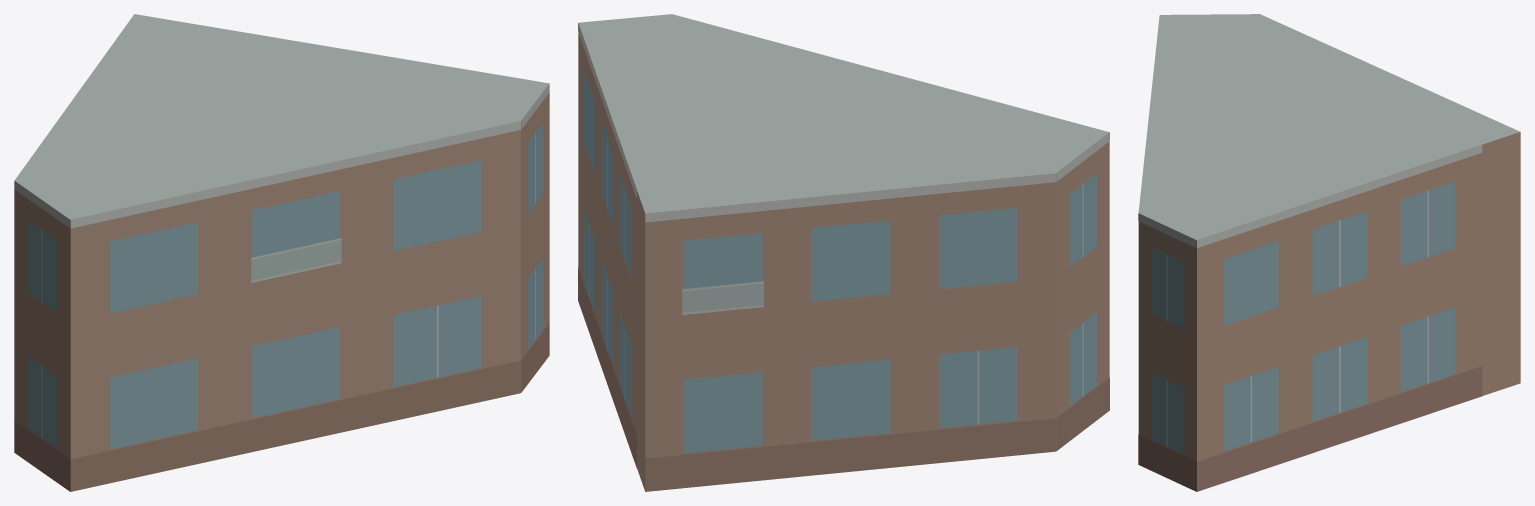
File: survey-upis-32985328.glb
The picture shows the model from 3 angles, left to right: view 1: azimuth 30°, elevation 25°; view 2: azimuth 150°, elevation 25°; view 3: azimuth 270°, elevation 25°; orthographic projection. The views are drawn at different scales.
Parts seen in each view (by area): view 1: survey-upis-32985328.tmp; view 2: survey-upis-32985328.tmp; view 3: survey-upis-32985328.tmp.
Part boxes in pixels (<box>): survey-upis-32985328.tmp: <box>14,14,549,491</box>; survey-upis-32985328.tmp: <box>578,14,1109,491</box>; survey-upis-32985328.tmp: <box>1138,14,1520,491</box>.
Size of the model in its own units: 14.67 by 7.6 by 10.47.
